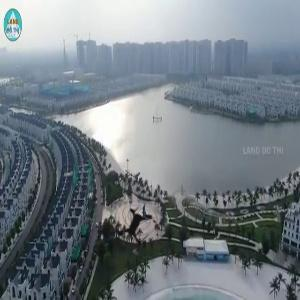drone: (101, 192, 176, 267)
